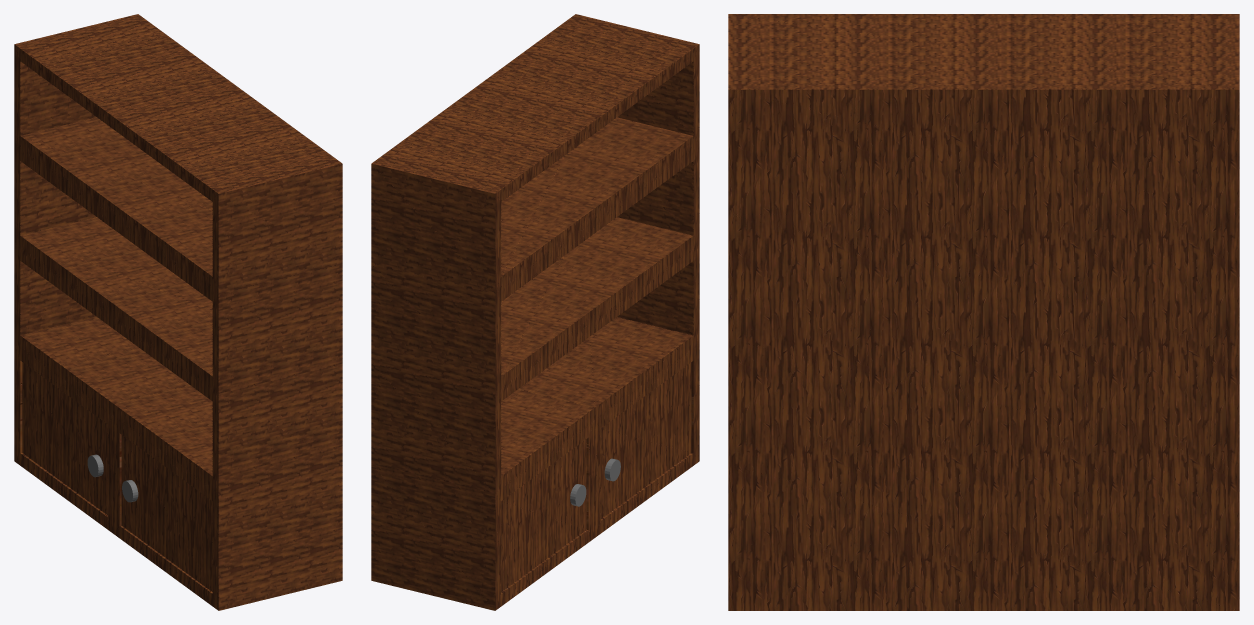
The model's file is Shelf.fbx.
3 views of the same model, side by side, from view 1: azimuth 30°, elevation 25°; view 2: azimuth 150°, elevation 25°; view 3: azimuth 270°, elevation 25° (orthographic). The views are drawn at different scales.
Parts seen in each view (by area): view 1: Cylinder.001; view 2: Cylinder.001; view 3: Cylinder.001.
Boxes of the visible parts, x1,y1,x2,y2 form: Cylinder.001: (14,14,342,610); Cylinder.001: (371,14,699,610); Cylinder.001: (728,14,1239,610).
Bounding box in the file's own units: 71.95 × 225 × 200.
Materials: 2 (1 with a texture image).
